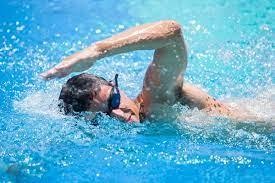Swimming: (12, 9, 264, 157)
